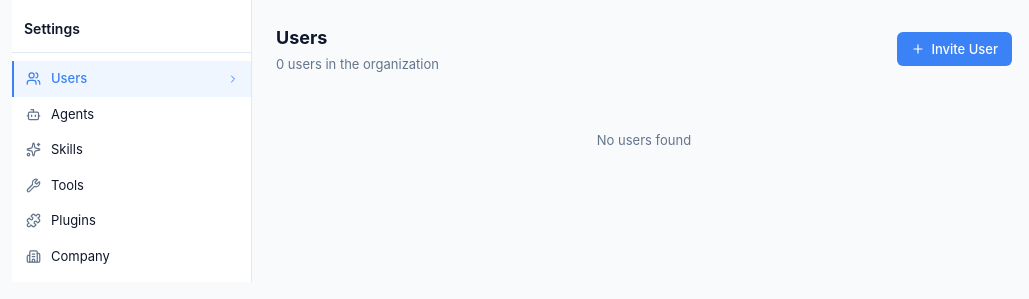
it: SettingsScreen › clicking "Skills" nav shows skills section with skill cards
Click the button "Skills" at [132, 150], box x1=12 y1=132 x2=251 y2=168
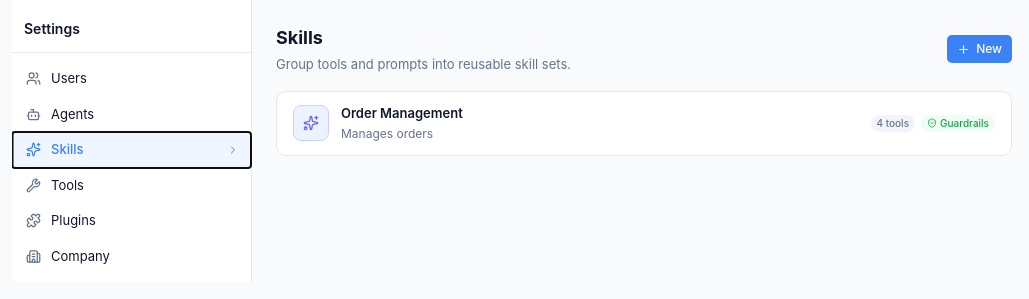
Expected: the heading "Skills" is shown, x1=276 y1=27 x2=323 y2=48
Expected: the text "Order Management" is shown, x1=341 y1=104 x2=463 y2=123
